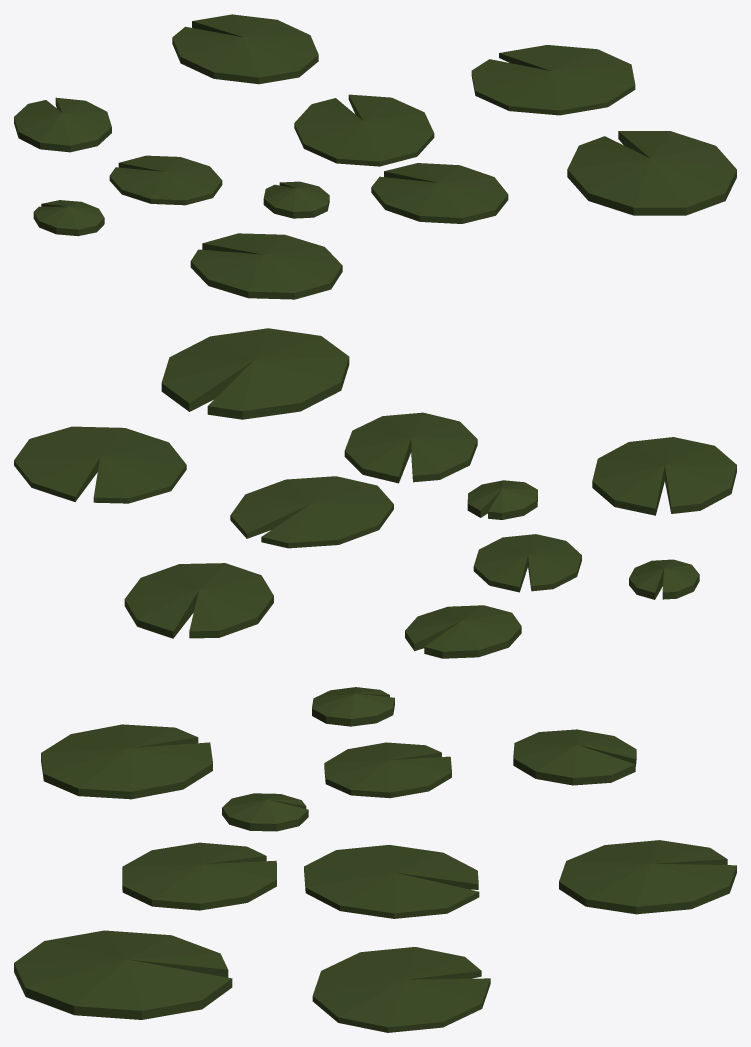
Rendered from Water Lily Multi_2.fbx.
3 views of the same model, one above another, from view 1: azimuth 30°, elevation 25°; view 2: azimuth 150°, elevation 25°; view 3: azimuth 270°, elevation 25° (orthographic). The views are drawn at different scales.
Visible parts, largest first — view 1: Water Lily Multi_2; view 2: Water Lily Multi_2; view 3: Water Lily Multi_2.
Boxes of the visible parts, x1=… form: Water Lily Multi_2: x1=14, y1=14, x2=736, y2=299; Water Lily Multi_2: x1=14, y1=328, x2=736, y2=658; Water Lily Multi_2: x1=14, y1=687, x2=736, y2=1032.
Size of the model in its own units: 1.27 by 0.0357 by 1.15.
